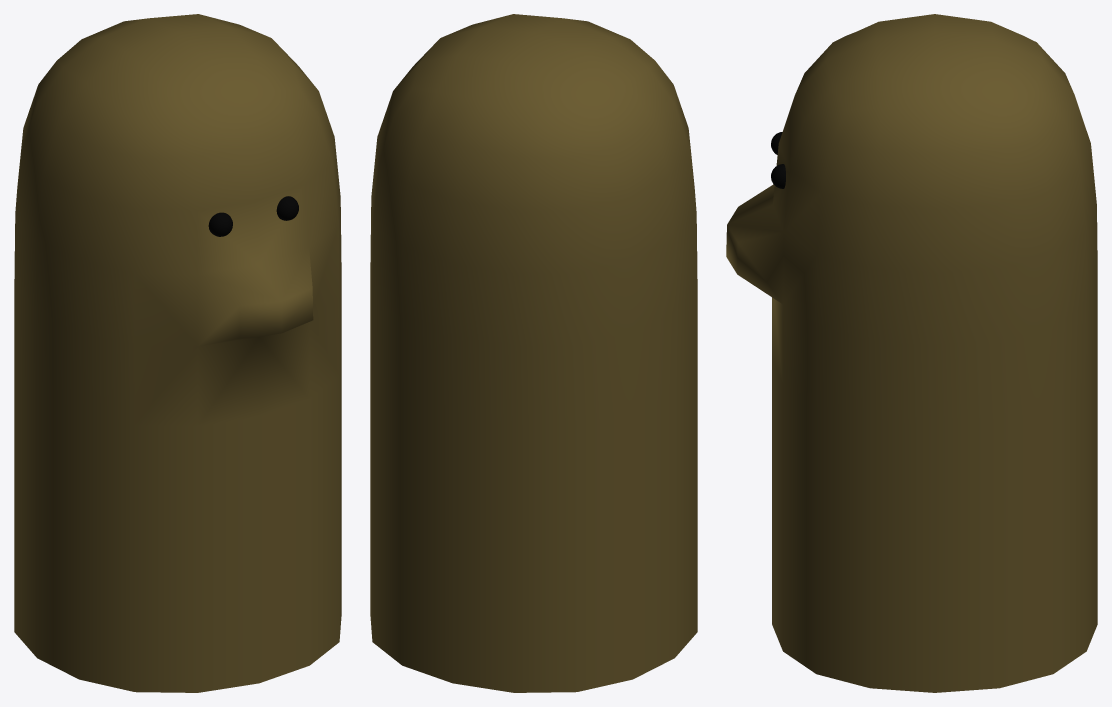
The model's file is Mole.fbx.
The picture shows the model from 3 angles, left to right: view 1: azimuth 30°, elevation 25°; view 2: azimuth 150°, elevation 25°; view 3: azimuth 270°, elevation 25°; orthographic projection.
Visible parts, largest first — view 1: Mole; view 2: Mole; view 3: Mole.
Boxes of the visible parts, left/top/right/bottom form: Mole: left=14, top=14, right=341, bottom=692; Mole: left=370, top=14, right=697, bottom=692; Mole: left=726, top=14, right=1097, bottom=692.
Size of the model in its own units: 183 by 368 by 209.
